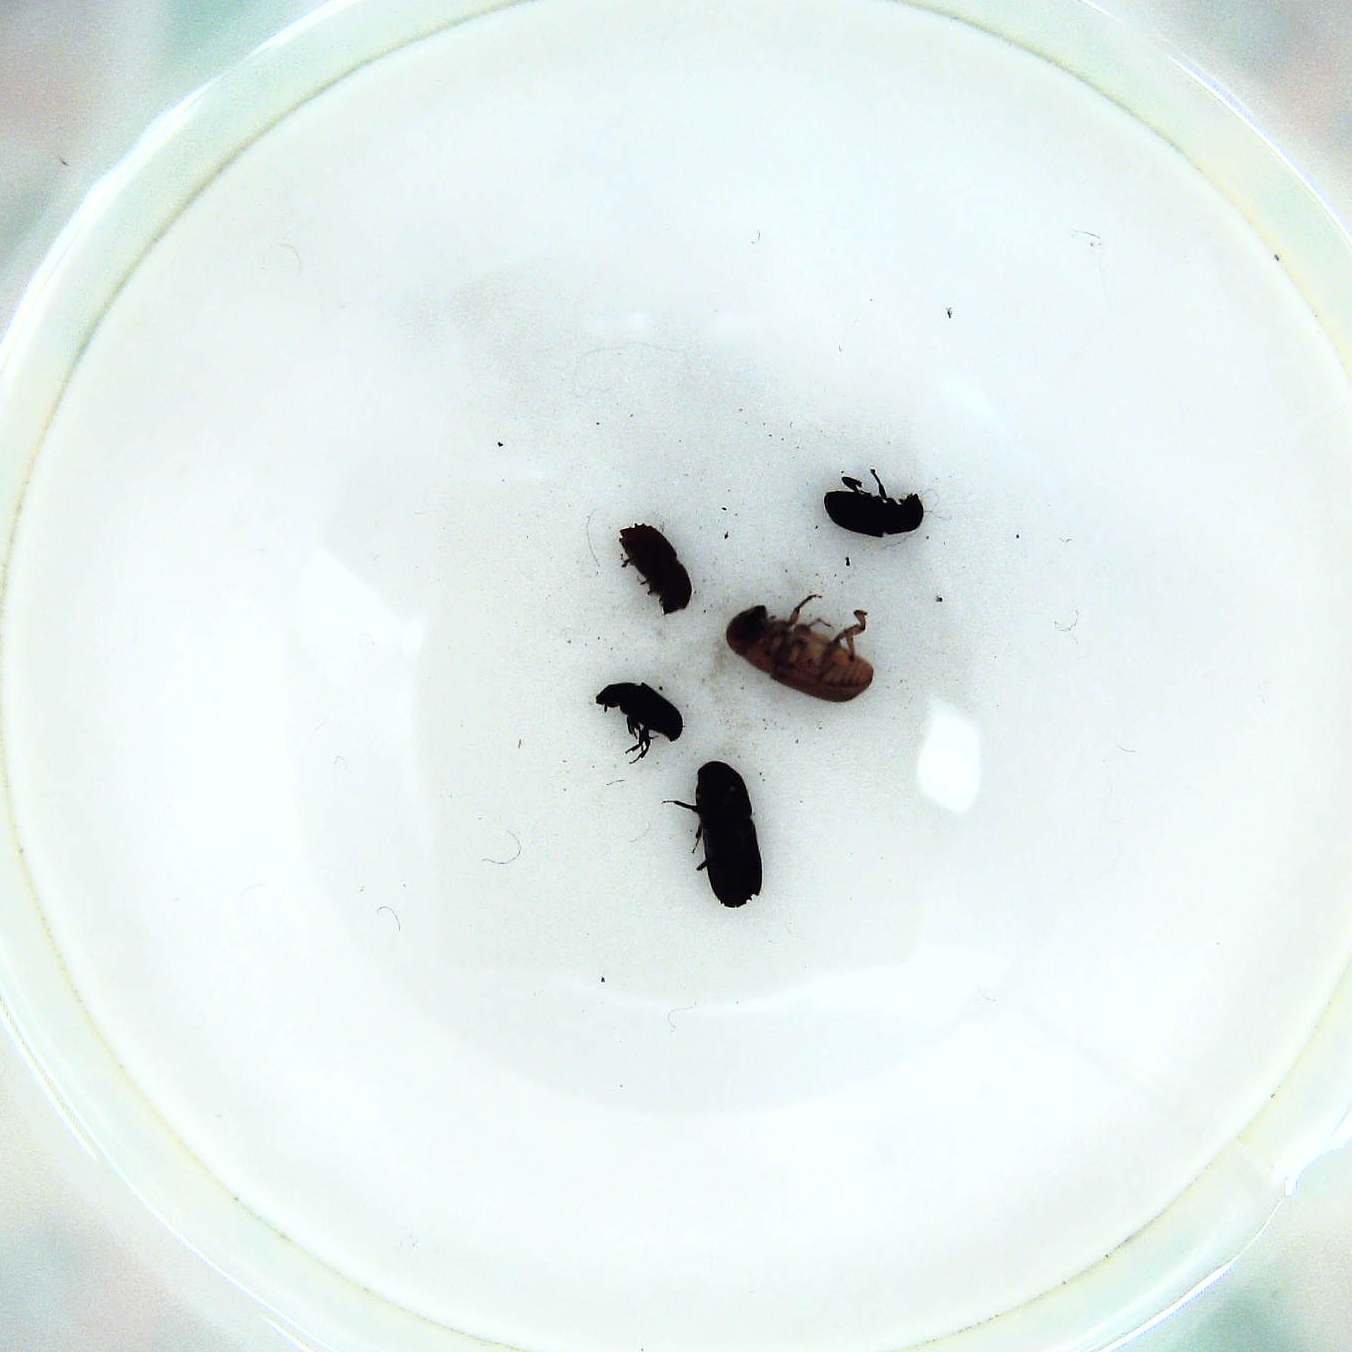Boerner: (674, 758, 766, 916)
Leconte: (722, 589, 877, 709)
armandi: (815, 466, 927, 545)
coleoptera: (586, 676, 686, 763)
linnaeus: (613, 519, 698, 619)
